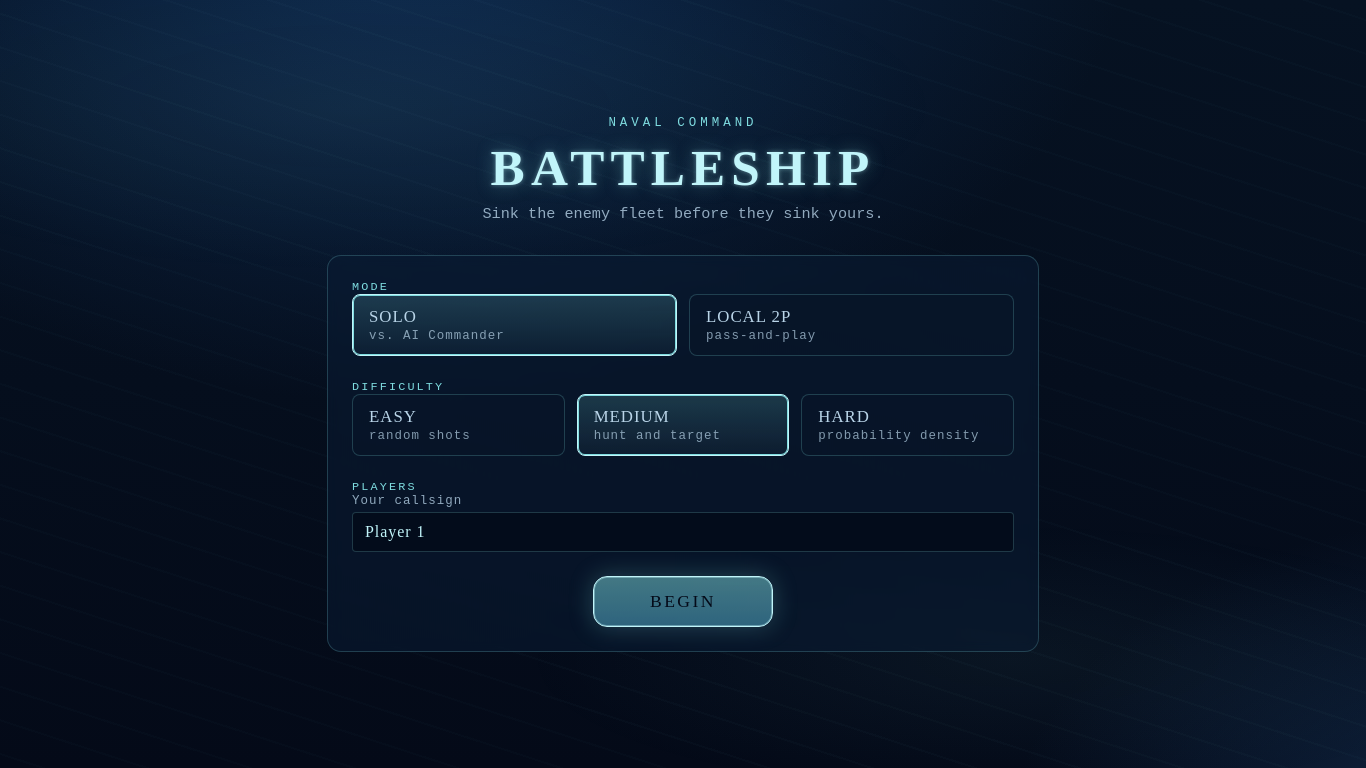
Test case: PlacementScreen integration (CP2) › Start button is disabled until the entire fleet is placed (#31)
This screenshot has width=1366, height=768.
Click the button with aria-label "begin placement" at (683, 602), box [593, 576, 773, 627]
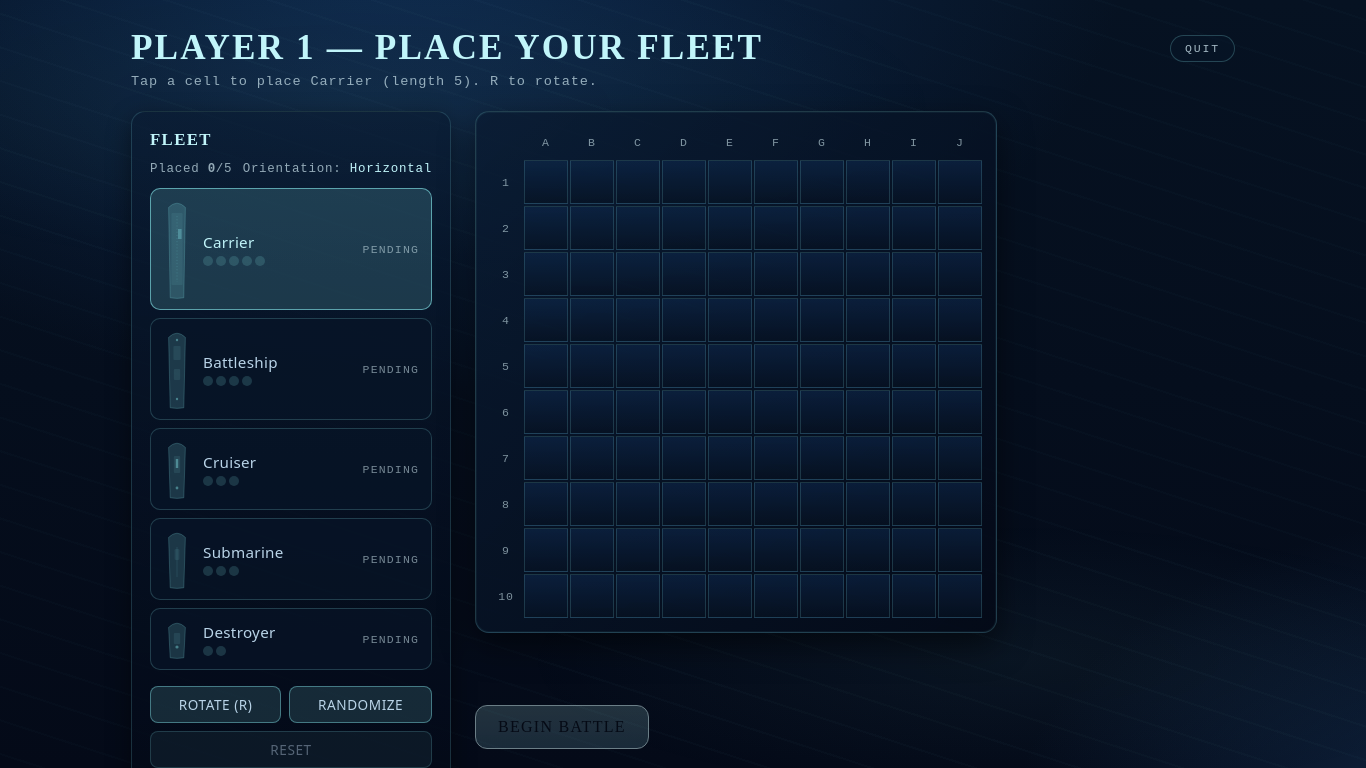
expect the button "Begin battle" is disabled: met, box [475, 704, 649, 748]
Click the button with aria-label "randomize fleet" at (361, 704), box [289, 686, 432, 723]
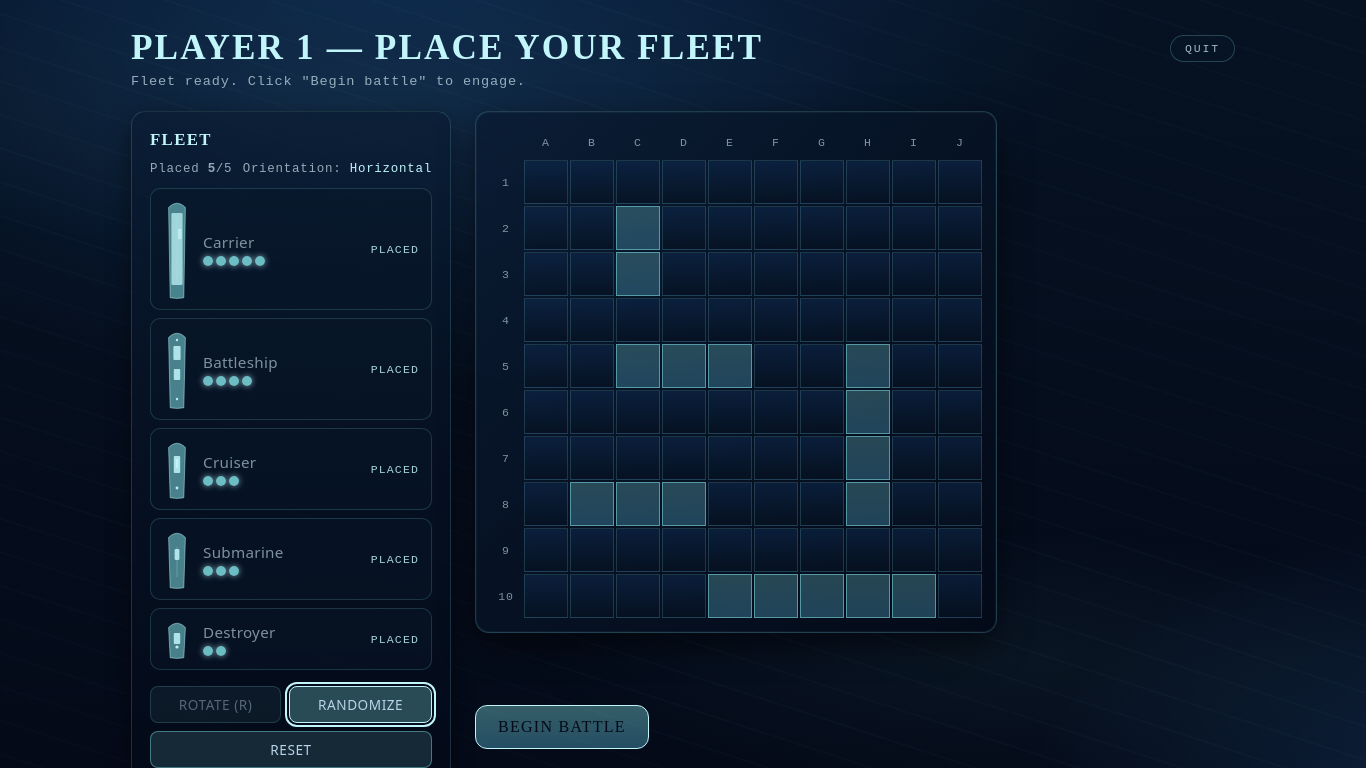
expect the button "Begin battle" is enabled: met, box [475, 704, 649, 748]
